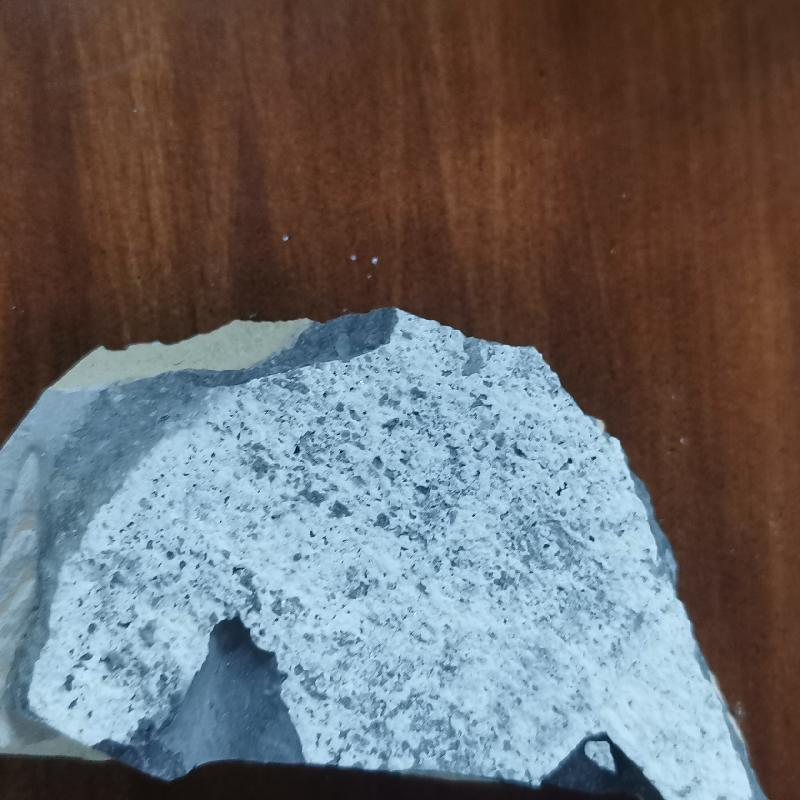tile: (4, 305, 781, 800)
